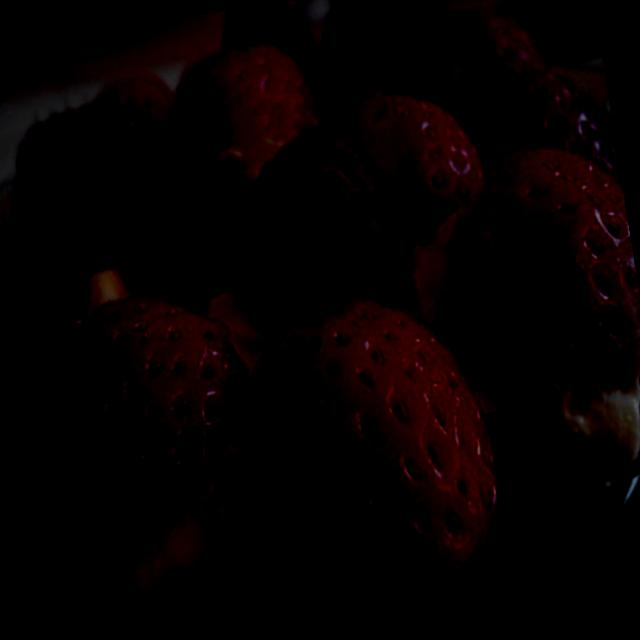Strawberry: (210, 276, 520, 636), (6, 276, 282, 622), (411, 132, 640, 499), (222, 114, 420, 334), (56, 110, 258, 320), (335, 76, 494, 254), (0, 205, 114, 449), (463, 54, 622, 205), (307, 0, 477, 133), (171, 34, 330, 158)
